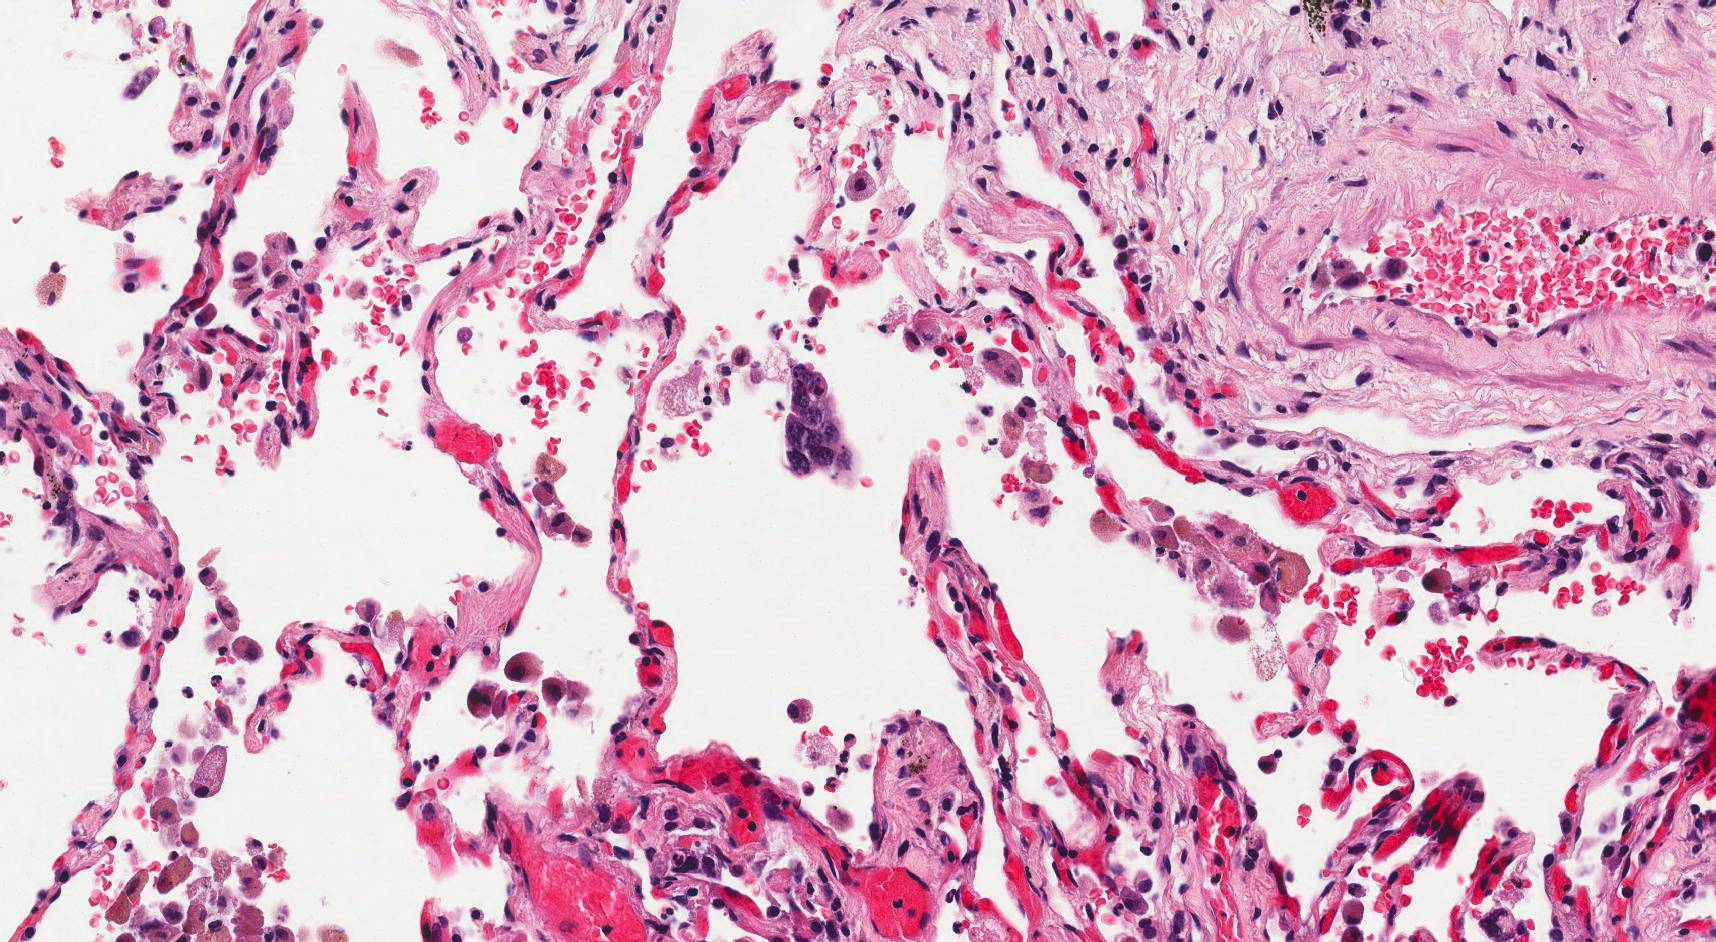stas: (782, 365, 854, 480)
